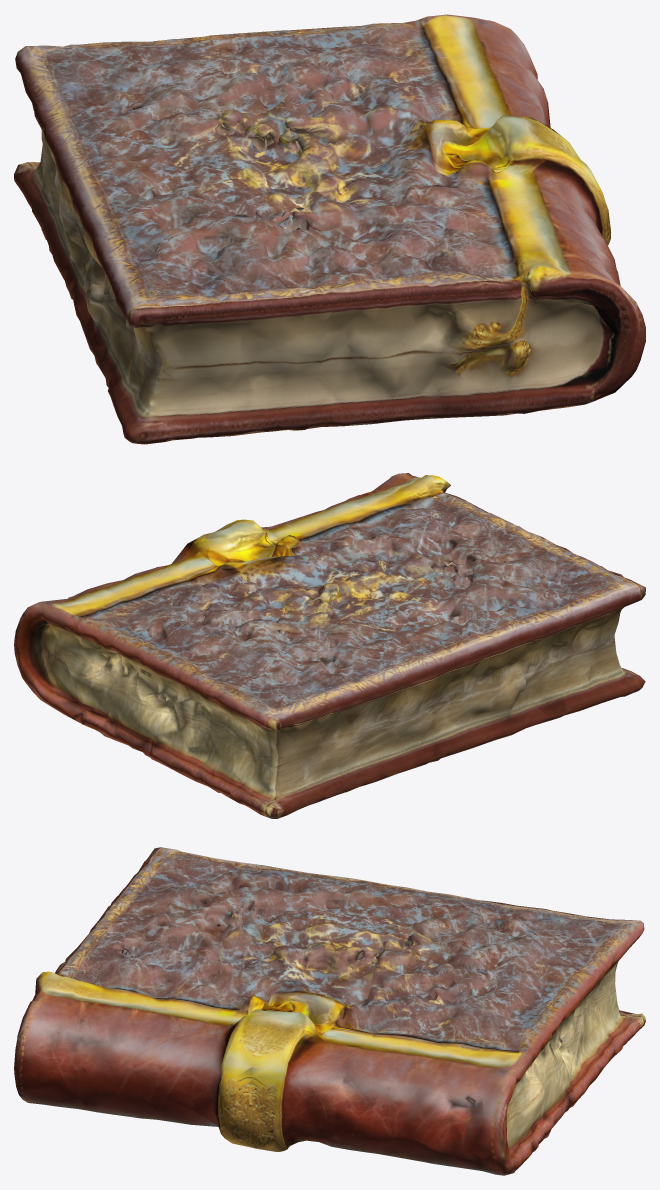
3 renders of one model, top to bottom at view 1: azimuth 30°, elevation 25°; view 2: azimuth 150°, elevation 25°; view 3: azimuth 270°, elevation 25°, orthographic. The views are drawn at different scales.
Bounding box in the file's own units: 1.09 × 0.2813 × 1.2.
Materials: 1 (1 with a texture image).
